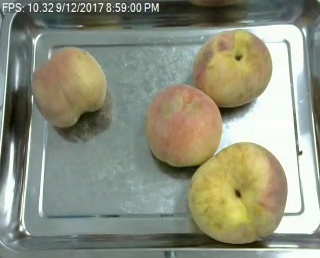Peach: (188, 142, 286, 243), (145, 82, 223, 167), (31, 45, 107, 129), (193, 28, 272, 106)
